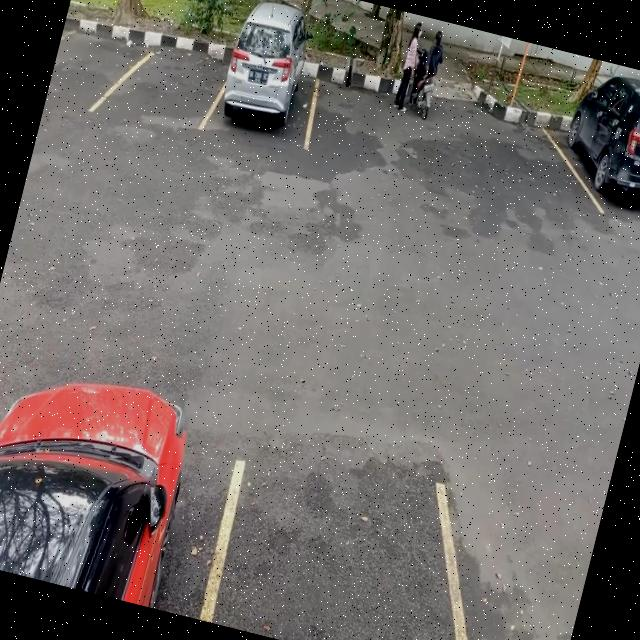empty: (197, 429, 501, 640), (399, 441, 609, 640), (113, 14, 233, 139), (45, 1, 137, 117)
occupied: (0, 399, 246, 621), (208, 17, 334, 152), (551, 86, 640, 230)
